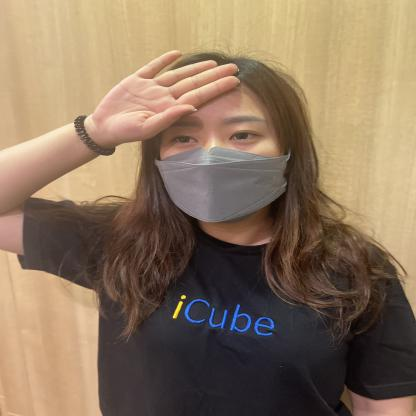Sick: (79, 38, 271, 159)
